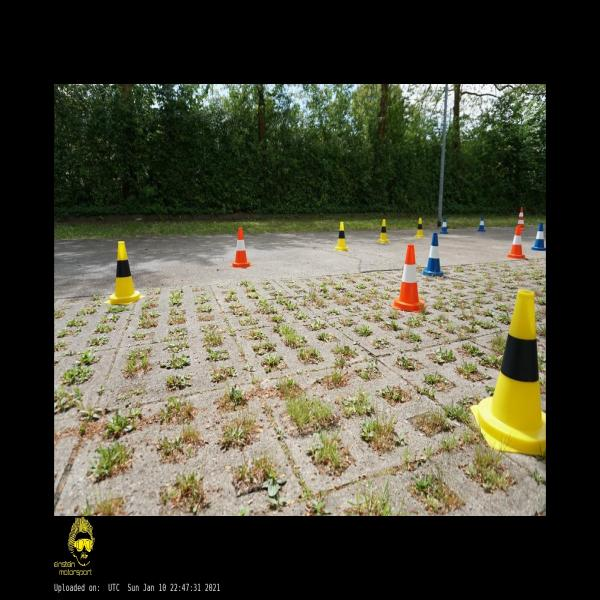blue_cone: (421, 232, 444, 277), (531, 223, 545, 250), (440, 217, 448, 234), (478, 217, 486, 232)
large_orange_cone: (516, 206, 526, 230)
orange_cone: (392, 244, 426, 312), (230, 228, 254, 270), (507, 225, 526, 259)
yellow_cone: (470, 289, 546, 454), (104, 240, 145, 304), (335, 222, 348, 252), (377, 218, 390, 242), (415, 217, 425, 238)
